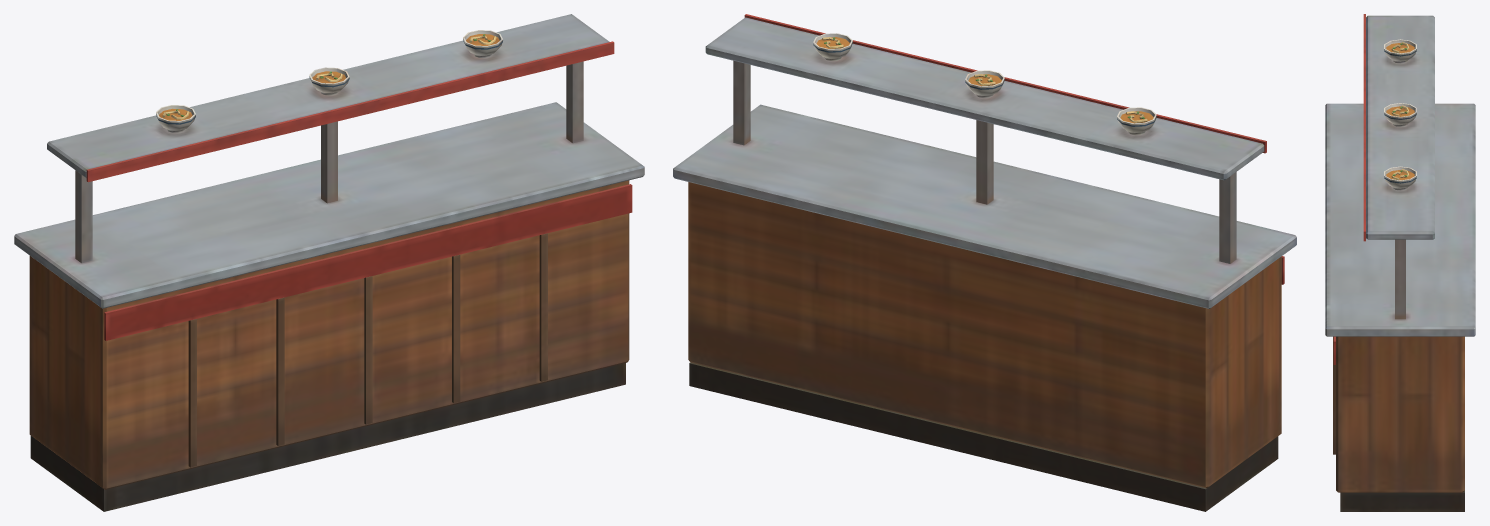
File: counter_noodle.glb
3 renders of one model, left to right at view 1: azimuth 30°, elevation 25°; view 2: azimuth 150°, elevation 25°; view 3: azimuth 270°, elevation 25°, orthographic. The views are drawn at different scales.
Visible parts, largest first — view 1: counter_noodle; view 2: counter_noodle; view 3: counter_noodle.
Boxes of the visible parts, x1,y1,x2,y2 form: counter_noodle: (14,14,644,511); counter_noodle: (673,14,1296,511); counter_noodle: (1325,14,1475,511).
Bounding box in the file's own units: 2.48 × 1.51 × 0.7.
10 materials, 9 textured.
